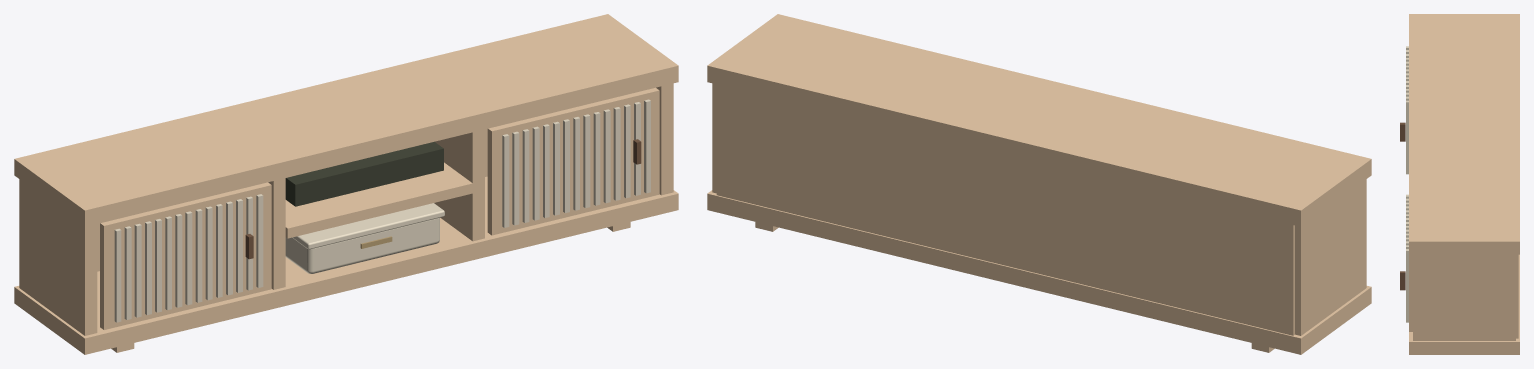
File: living_ref_console.glb
3 views of the same model, side by side, from view 1: azimuth 30°, elevation 25°; view 2: azimuth 150°, elevation 25°; view 3: azimuth 270°, elevation 25° (orthographic). The views are drawn at different scales.
Bounding box in the file's own units: 3.4 × 0.865 × 0.7575.
